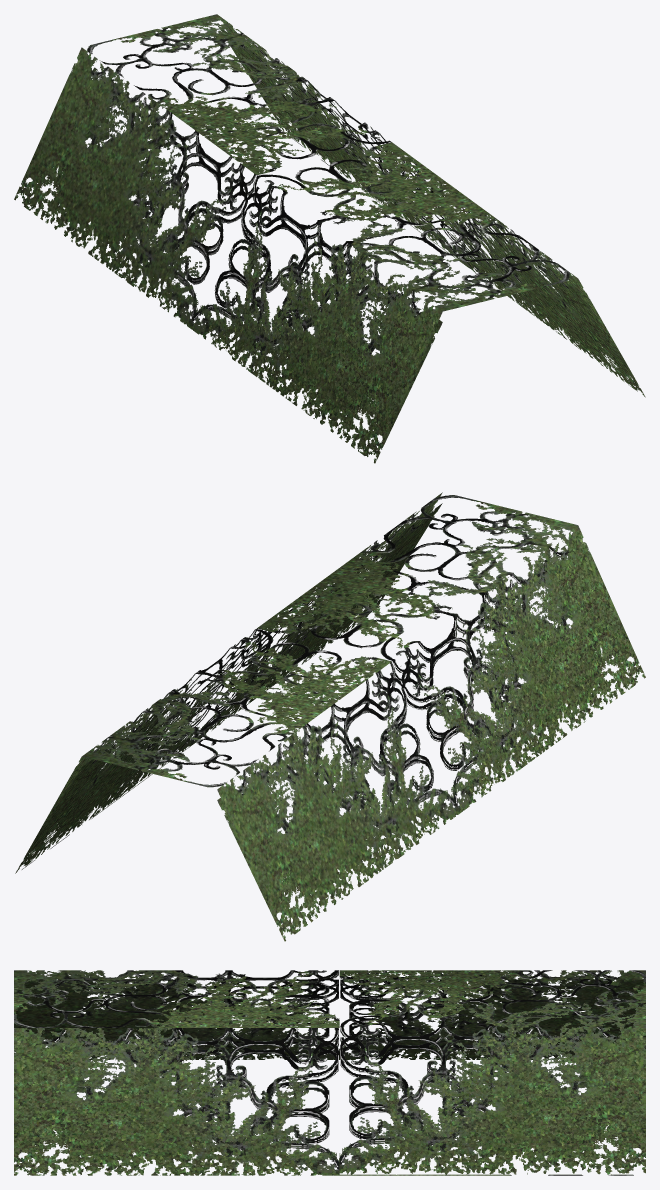
File: thm_nboo_imprv_arbor_long_s02_l2.fbx
3 renders of one model, top to bottom at view 1: azimuth 30°, elevation 25°; view 2: azimuth 150°, elevation 25°; view 3: azimuth 270°, elevation 25°, orthographic. The views are drawn at different scales.
Visible parts, largest first — view 1: mesh_node; view 2: mesh_node; view 3: mesh_node.
Part boxes in pixels (<box>): mesh_node: <box>14,14,645,463</box>; mesh_node: <box>15,492,645,941</box>; mesh_node: <box>14,970,645,1175</box>.
Bounding box in the file's own units: 3.48 × 1.66 × 8.03.
1 material, 1 textured.
